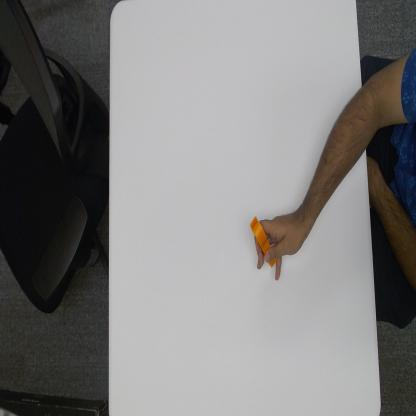Arm: (307, 90, 364, 230)
Hand: (255, 214, 307, 282)
Screwdriver: (250, 216, 276, 267)
